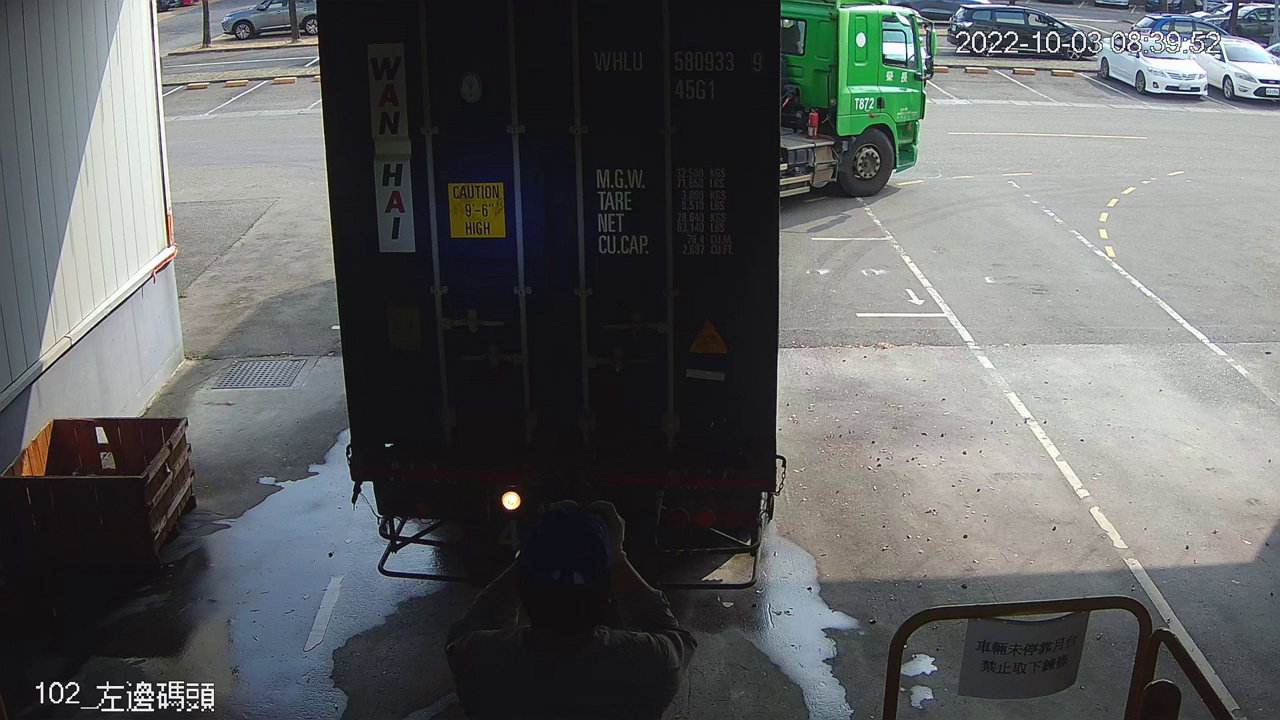container: (585, 41, 771, 104)
